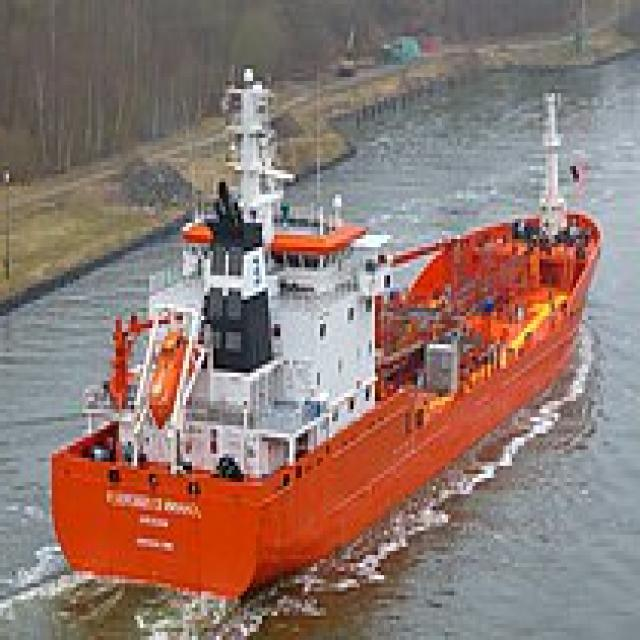Tanker: (48, 61, 610, 595)
